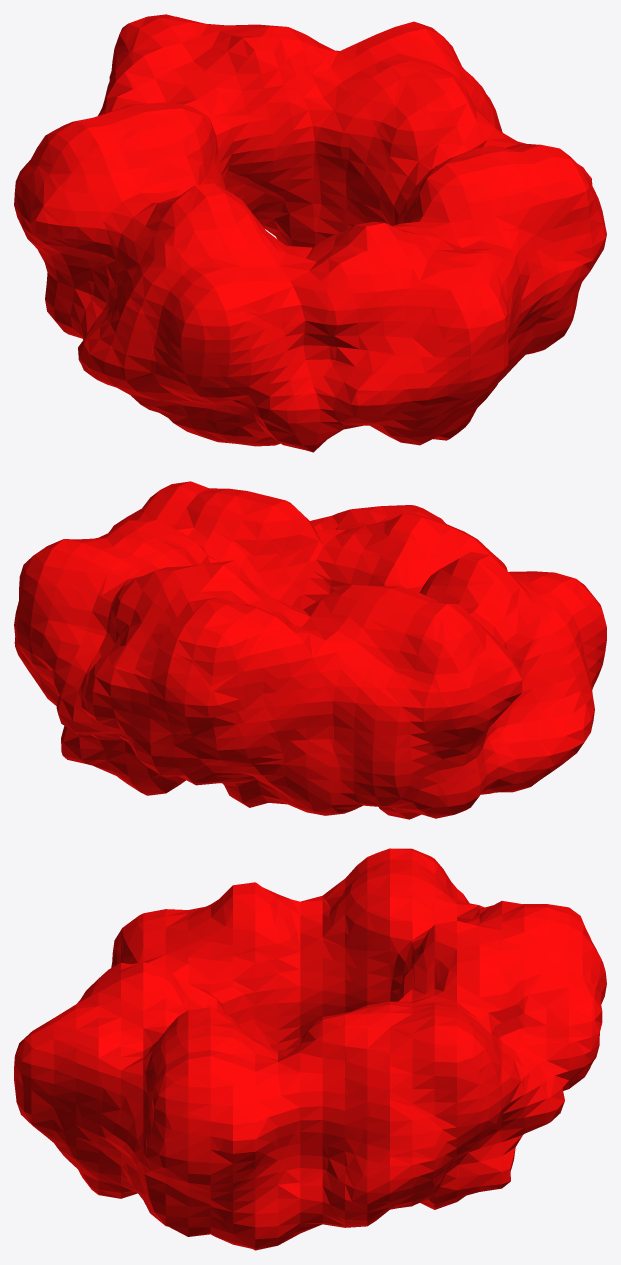
File: dnaN_coarse.dae
3 views of the same model, one above another, from view 1: azimuth 30°, elevation 25°; view 2: azimuth 150°, elevation 25°; view 3: azimuth 270°, elevation 25° (orthographic). The views are drawn at different scales.
Parts seen in each view (by area): view 1: dnaN; view 2: dnaN; view 3: dnaN.
Boxes of the visible parts, x1,y1,x2,y2 form: dnaN: [14, 14, 606, 452]; dnaN: [14, 481, 606, 819]; dnaN: [14, 848, 606, 1250].
Bounding box in the file's own units: 89.08 × 50.55 × 94.8.
